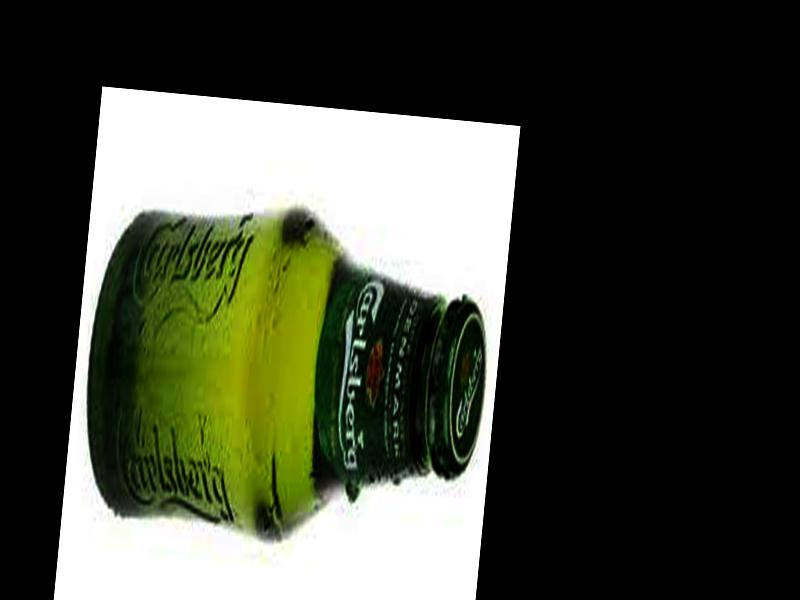Beer: (72, 199, 497, 556)
